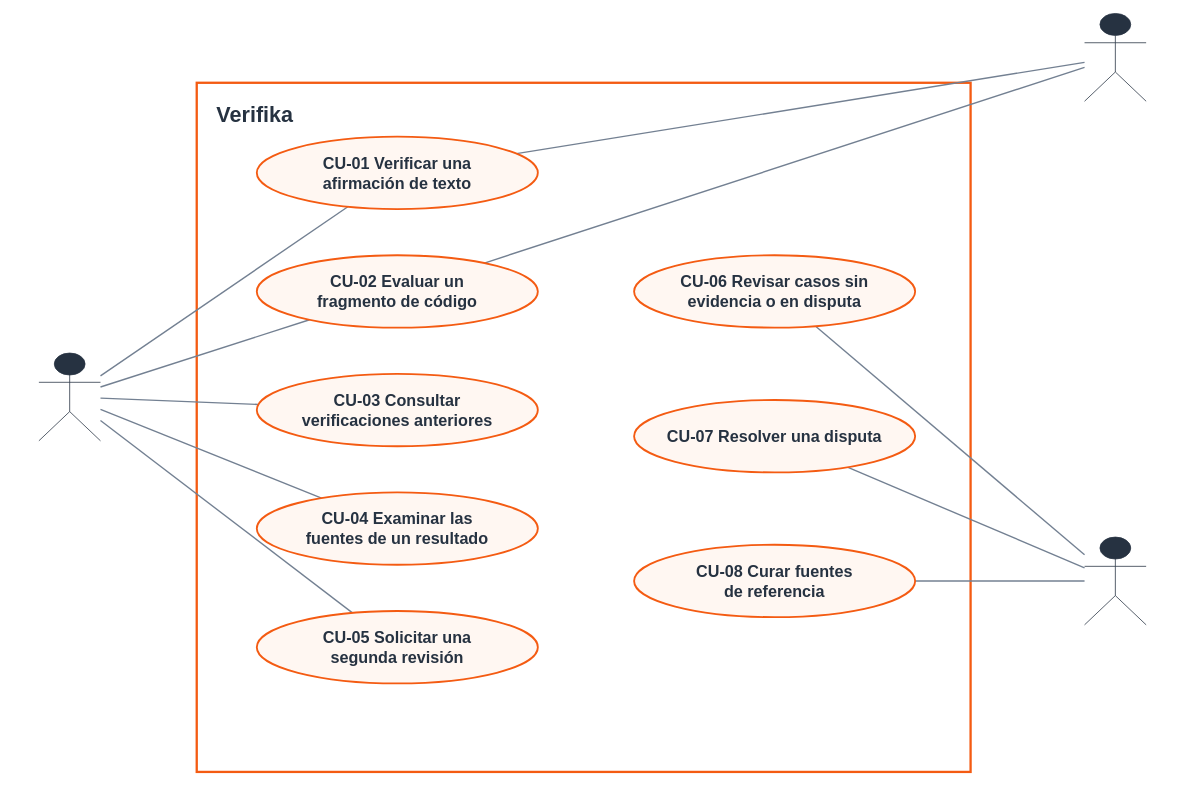
Some shapes in this 1184 by 786 pixel diagram are drawn without their labels. The centre of each missing label's shape, as x and y in pixels:
"Agente de IA" belongs at point 1115,57.
"Persona usuaria" belongs at point 69,396.
"Responsable de moderación" belongs at point 1115,580.
